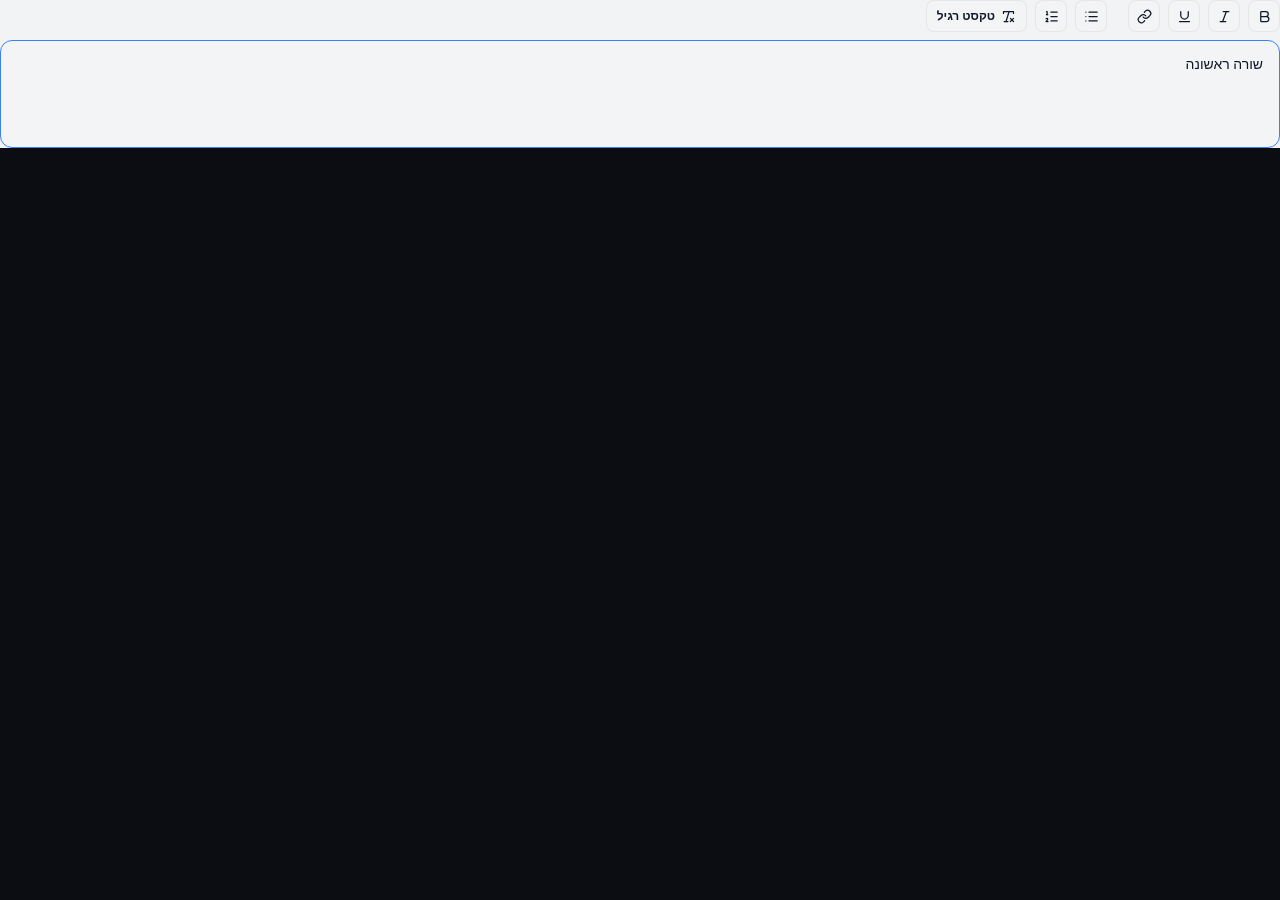
Test: SmartTextEditor formatting toolbar › shows a neutral Hebrew link instruction regardless of whether text is selected
Step 1. Press the mouse on the button named "הוספת קישור" → x=1144, y=16, box x1=1128 y1=0 x2=1160 y2=32
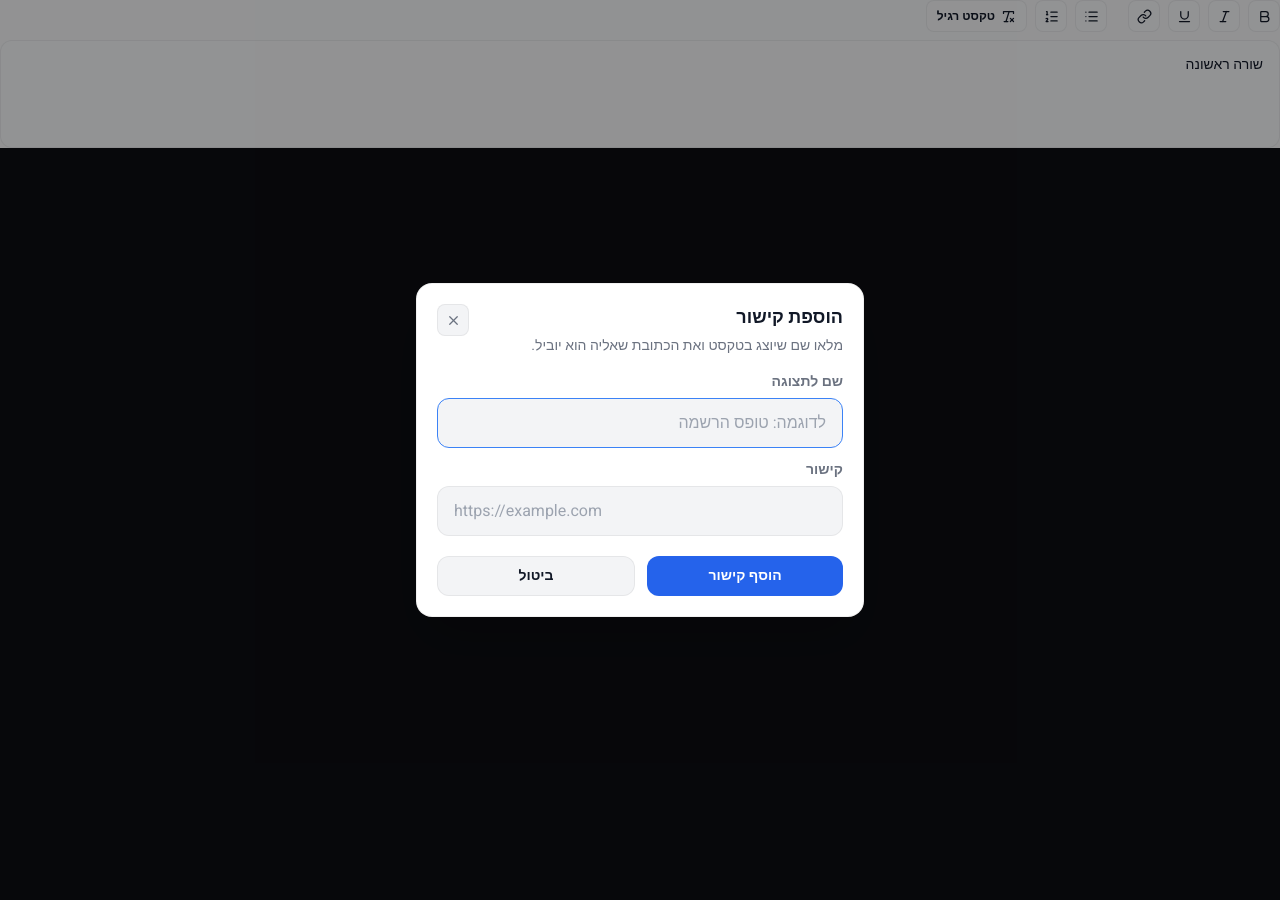
expect the text "מלאו שם שיוצג בטקסט ואת הכתובת שאליה הוא יוביל." is shown: met, box x1=531 y1=336 x2=843 y2=356
